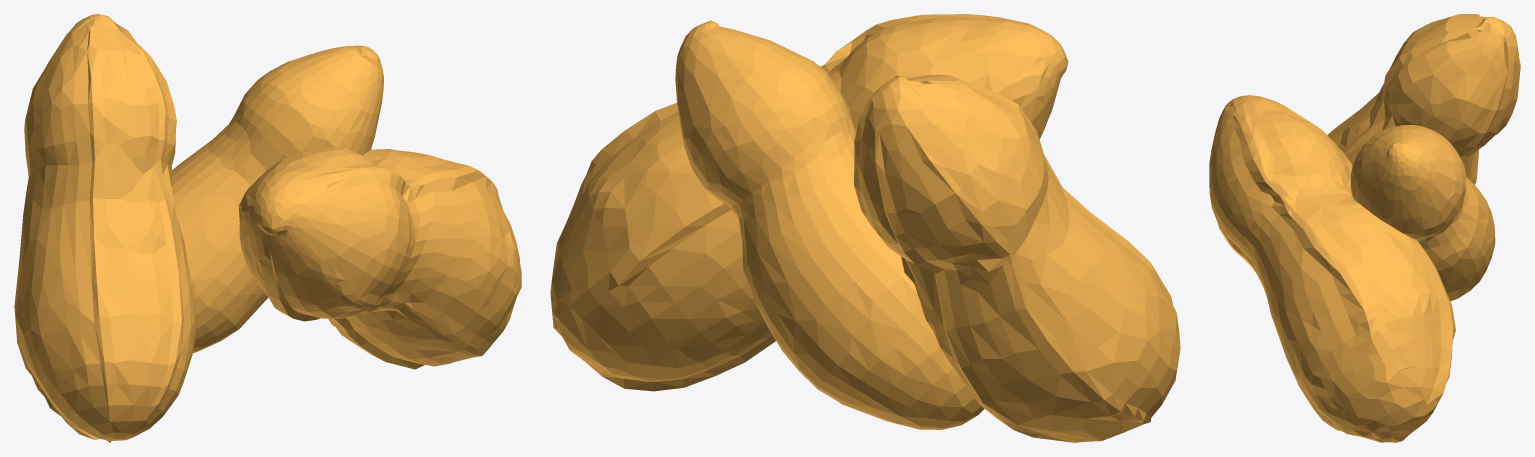
The model's file is kacang.fbx.
The picture shows the model from 3 angles, left to right: view 1: azimuth 30°, elevation 25°; view 2: azimuth 150°, elevation 25°; view 3: azimuth 270°, elevation 25°; orthographic projection. The views are drawn at different scales.
Parts seen in each view (by area): view 1: Sphere.002, Sphere.003, Sphere; view 2: Sphere.002, Sphere, Sphere.003; view 3: Sphere.003, Sphere.002, Sphere.
Part boxes in pixels (left/top/right/bottom): Sphere.002: left=14, top=14, right=195, bottom=442; Sphere.003: left=239, top=147, right=521, bottom=369; Sphere: left=171, top=45, right=383, bottom=353; Sphere.002: left=854, top=74, right=1180, bottom=442; Sphere: left=675, top=20, right=984, bottom=429; Sphere.003: left=550, top=14, right=1068, bottom=391; Sphere.003: left=1209, top=95, right=1455, bottom=442; Sphere.002: left=1327, top=14, right=1520, bottom=184; Sphere: left=1350, top=125, right=1495, bottom=301.
Size of the model in its own units: 5701 by 4125 by 3778.
